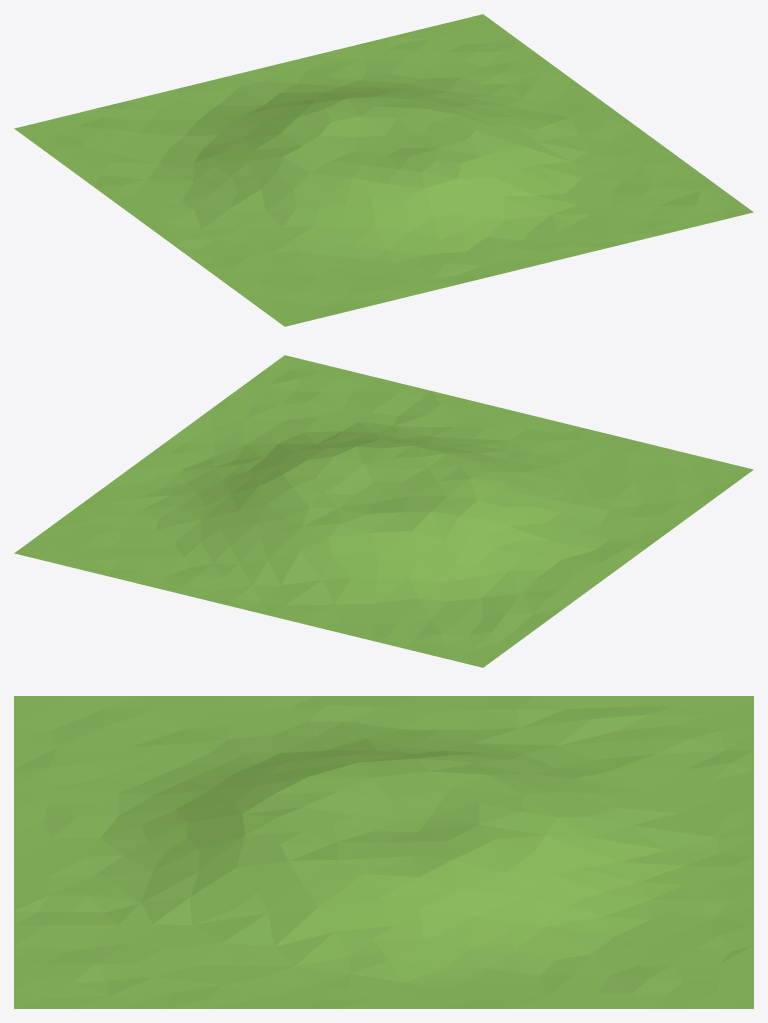
Rendered from MT_Terrain_M_a_15_LOD.fbx.
3 renders of one model, top to bottom at view 1: azimuth 30°, elevation 25°; view 2: azimuth 150°, elevation 25°; view 3: azimuth 270°, elevation 25°, orthographic. The views are drawn at different scales.
Visible parts, largest first — view 1: MT_Terrain_M_a_15_LOD0; view 2: MT_Terrain_M_a_15_LOD0; view 3: MT_Terrain_M_a_15_LOD0.
Boxes of the visible parts, left/top/right/bottom form: MT_Terrain_M_a_15_LOD0: left=14, top=14, right=753, bottom=326; MT_Terrain_M_a_15_LOD0: left=14, top=355, right=753, bottom=667; MT_Terrain_M_a_15_LOD0: left=14, top=696, right=753, bottom=1008.
Size of what is drawn, in the model's own units: 5000 by 292 by 5000.
